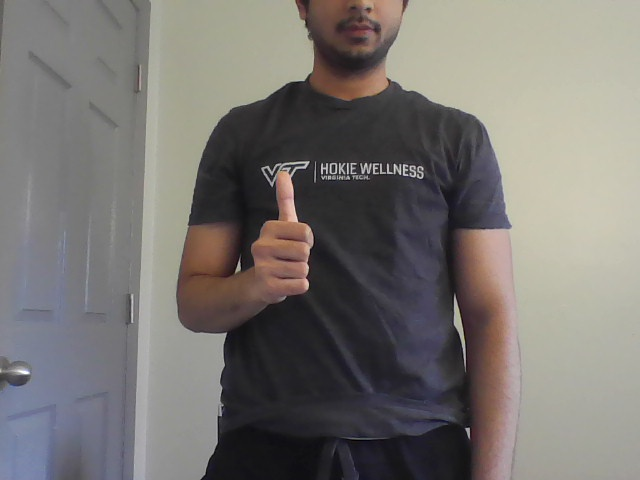confirm: (247, 164, 320, 301)
